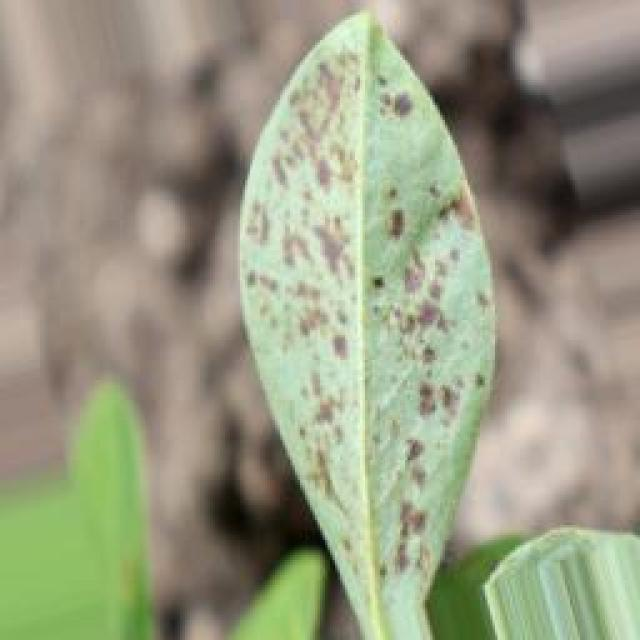Whitefly: (234, 1, 509, 612)
